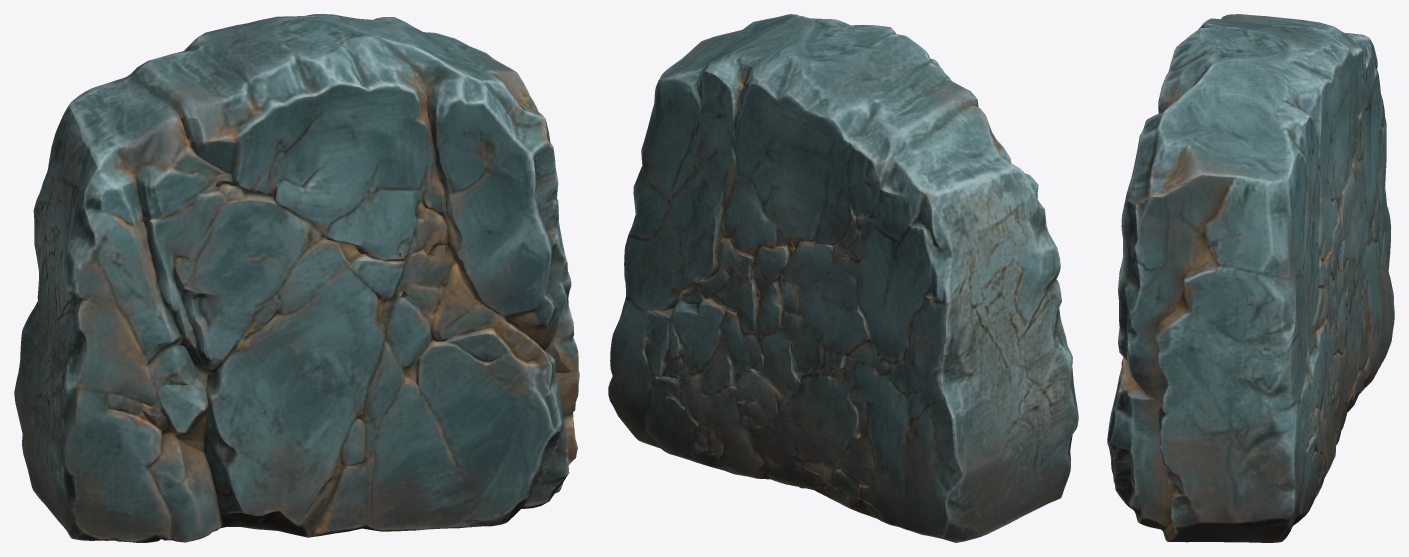
The model's file is entrance-aholo-8295863.glb.
The picture shows the model from 3 angles, left to right: view 1: azimuth 30°, elevation 25°; view 2: azimuth 150°, elevation 25°; view 3: azimuth 270°, elevation 25°; orthographic projection. The views are drawn at different scales.
Parts seen in each view (by area): view 1: Architecture_Aholo_8295863; view 2: Architecture_Aholo_8295863; view 3: Architecture_Aholo_8295863.
Boxes of the visible parts, <box> form: Architecture_Aholo_8295863: <box>14,14,579,542</box>; Architecture_Aholo_8295863: <box>608,14,1078,542</box>; Architecture_Aholo_8295863: <box>1107,14,1394,542</box>.
Size of the model in its own units: 0.8 by 0.7541 by 0.4711.
Materials: 1 (1 with a texture image).
